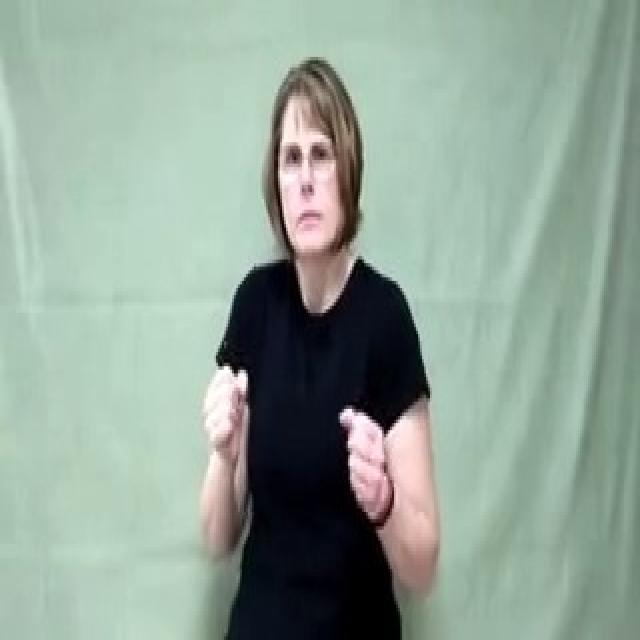cold: (194, 340, 402, 531)
